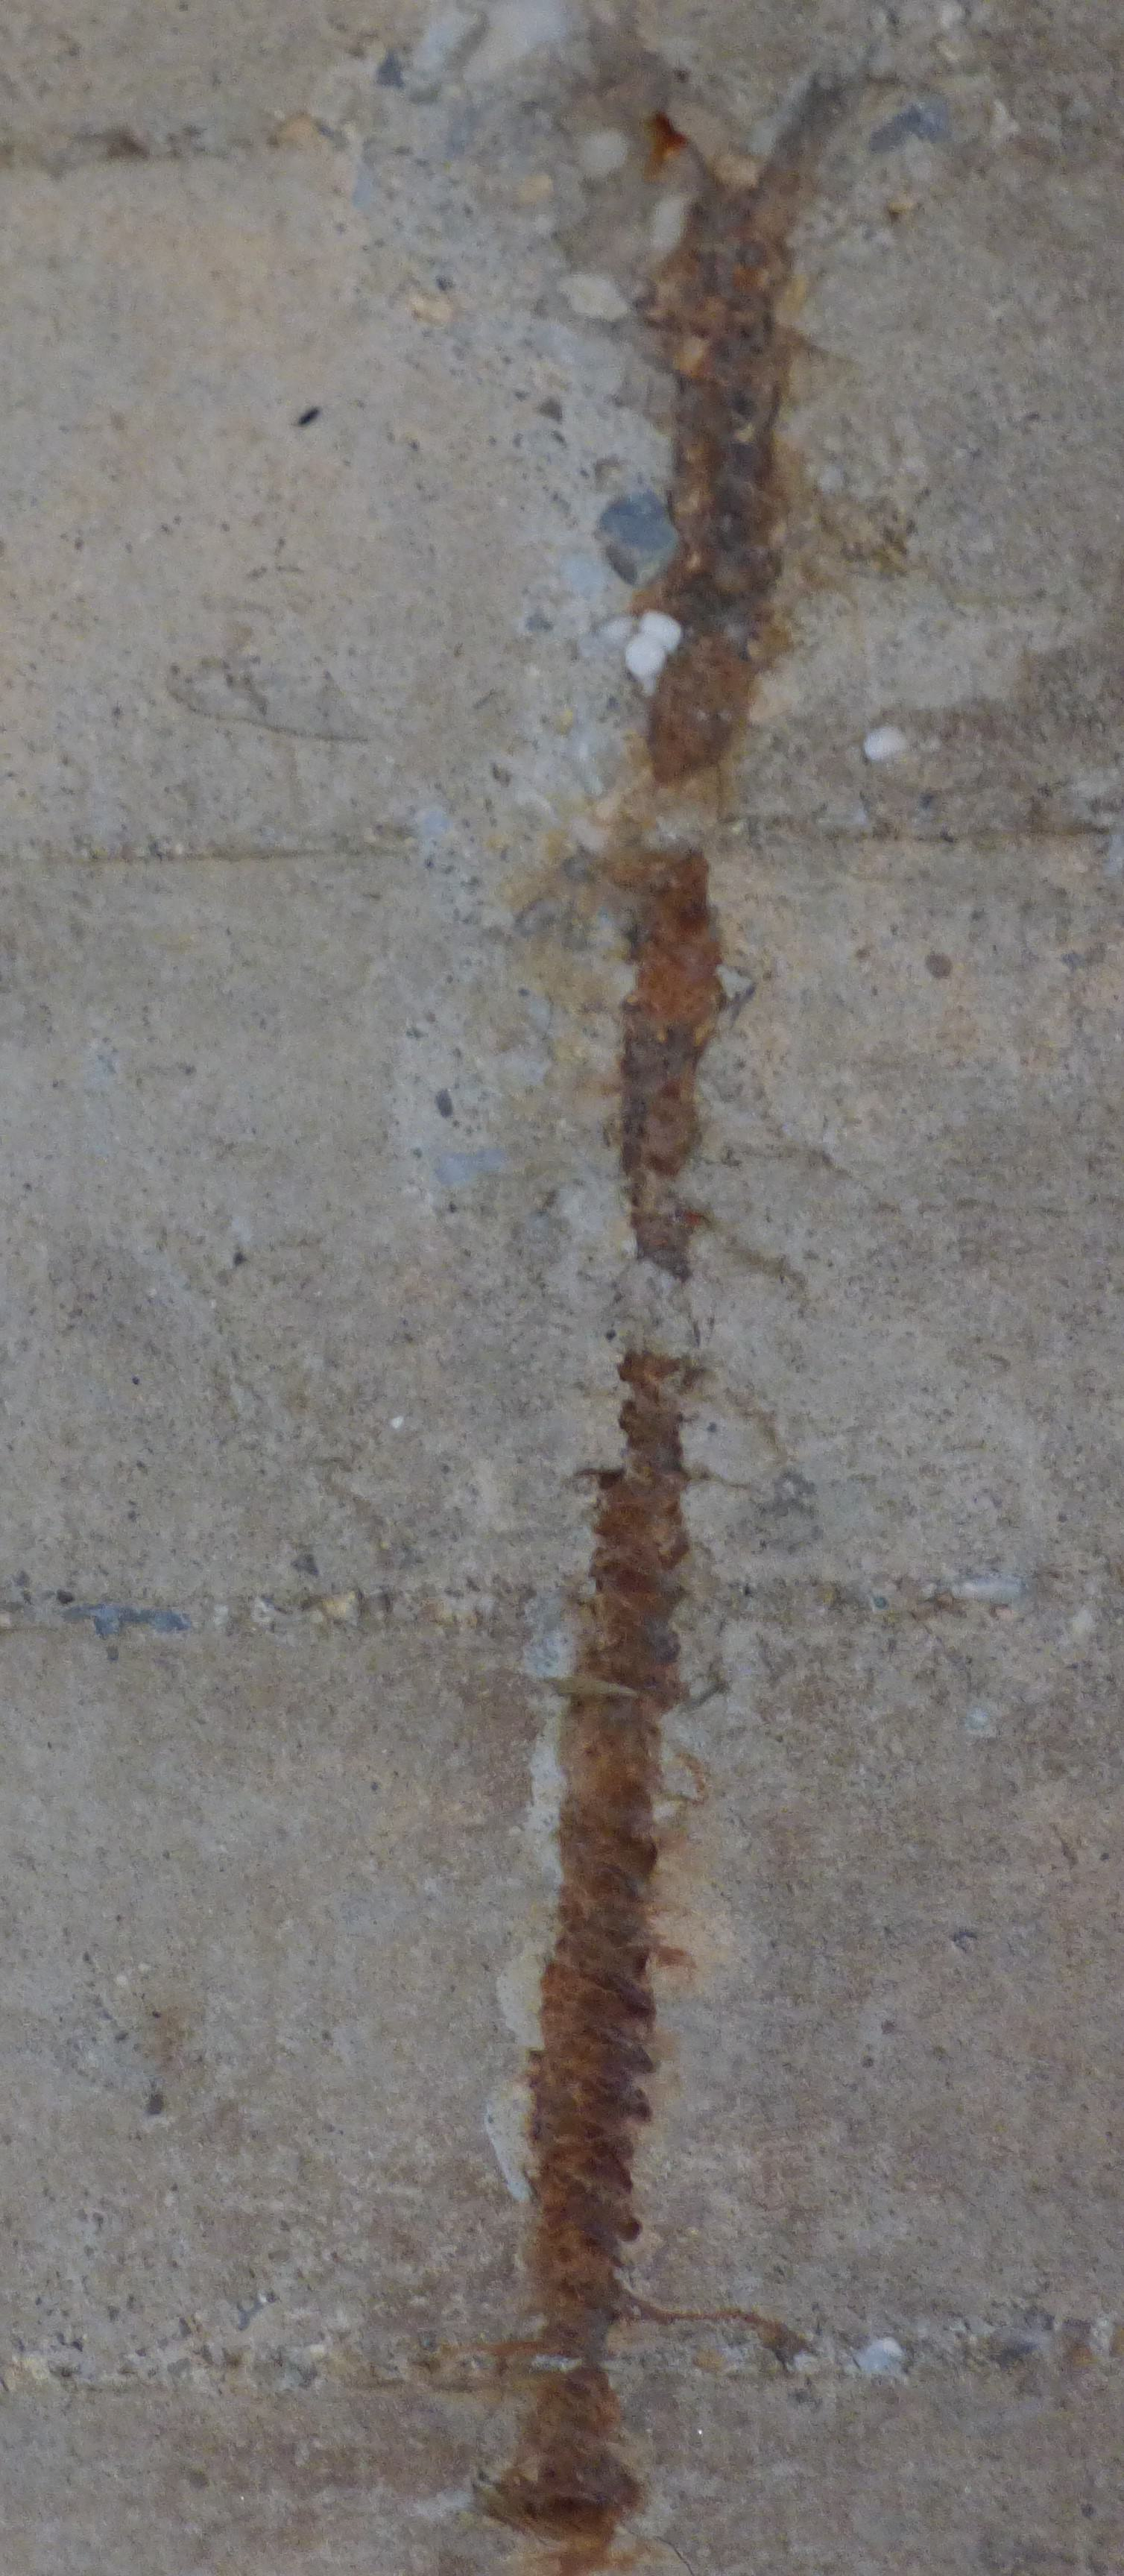Exposed reinforcement: (480, 1344, 707, 2576), (644, 171, 800, 789), (621, 846, 725, 1281)
